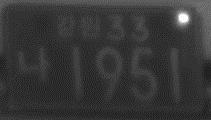1: (163, 48, 190, 99), (63, 47, 87, 99)
3: (104, 14, 125, 42), (128, 14, 149, 41)
5: (129, 47, 158, 100)
9: (95, 47, 124, 104)
강원_O: (56, 13, 100, 41)
나: (16, 47, 51, 79)
